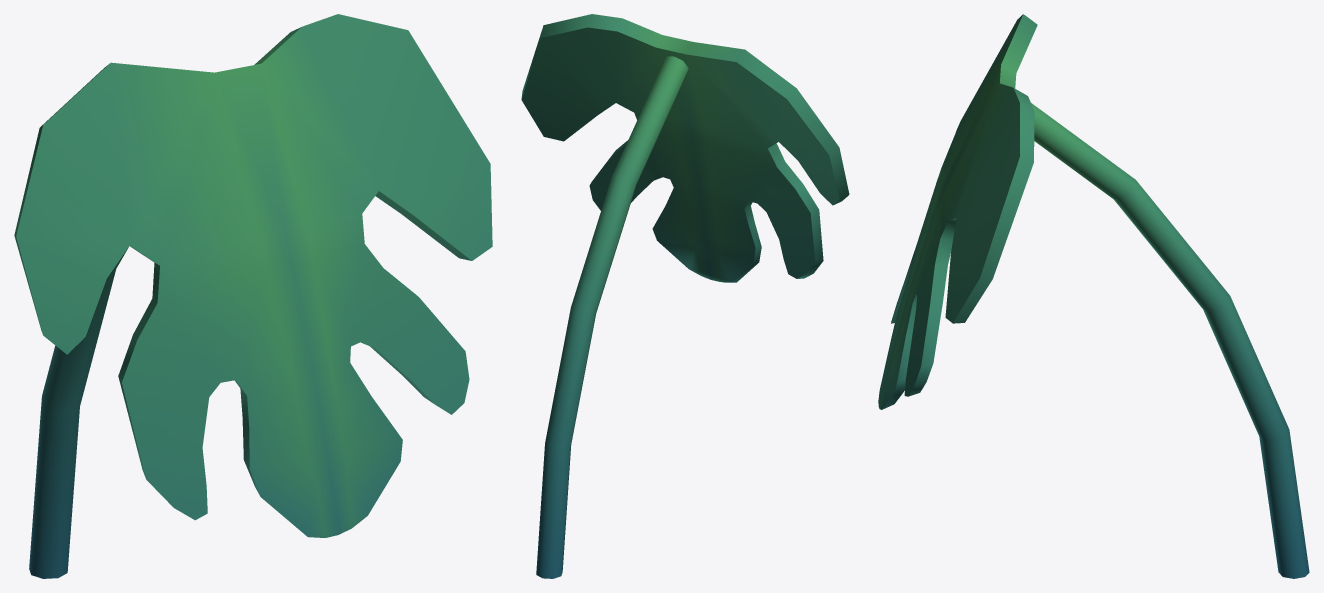
File: house_plants_plants_monstera_leaf_ojdd8qusqe.glb
3 views of the same model, side by side, from view 1: azimuth 30°, elevation 25°; view 2: azimuth 150°, elevation 25°; view 3: azimuth 270°, elevation 25° (orthographic). The views are drawn at different scales.
Visible parts, largest first — view 1: monstera_leaf_medium_A; view 2: monstera_leaf_medium_A; view 3: monstera_leaf_medium_A.
Part boxes in pixels (x1,y1,x2,y2): monstera_leaf_medium_A: (14, 14, 492, 578); monstera_leaf_medium_A: (521, 14, 849, 578); monstera_leaf_medium_A: (878, 14, 1309, 578).
Size of the model in its own units: 0.677 by 0.9158 by 0.6933.
1 material, 1 textured.
